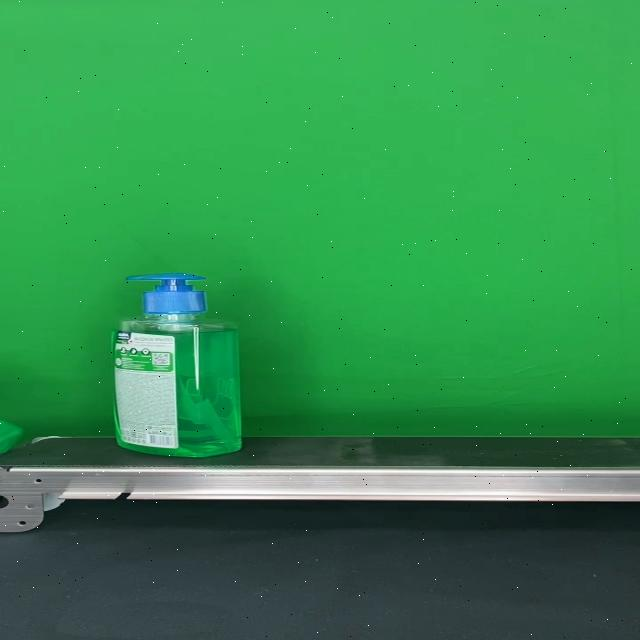Bottle: (110, 273, 242, 457)
Cap: (125, 273, 207, 315)
